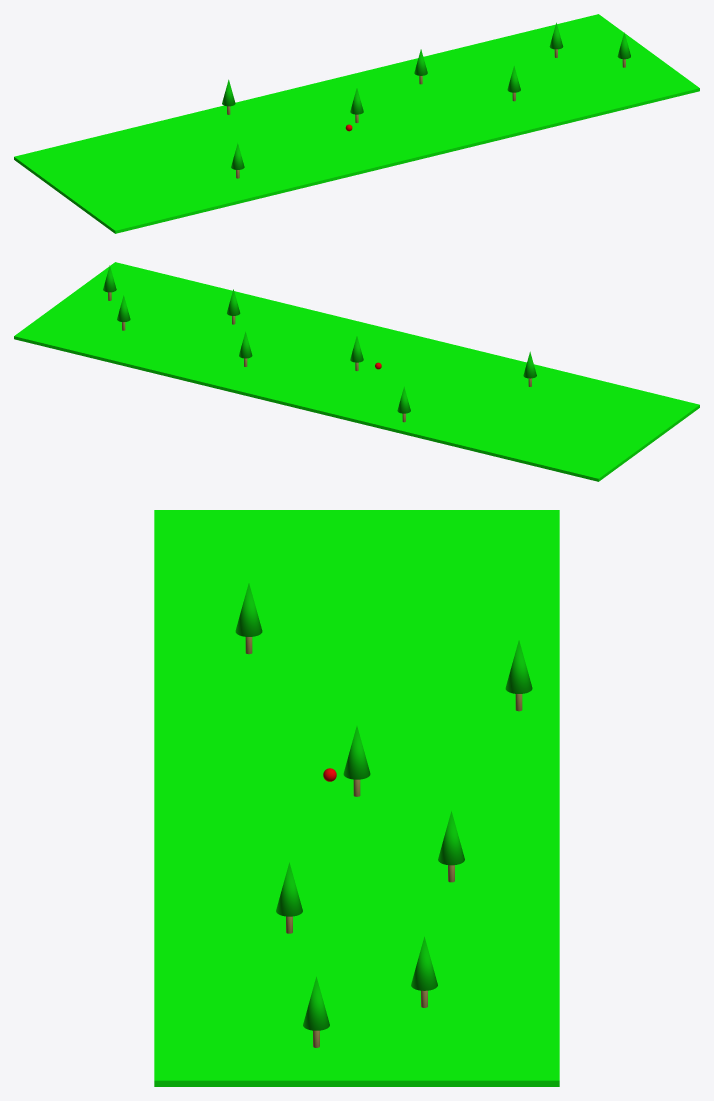
The model's file is cascadedshadowscene.fbx.
3 views of the same model, one above another, from view 1: azimuth 30°, elevation 25°; view 2: azimuth 150°, elevation 25°; view 3: azimuth 270°, elevation 25° (orthographic). The views are drawn at different scales.
Visible parts, largest first — view 1: Ground; view 2: Ground; view 3: Ground.
Boxes of the visible parts, left/top/right/bottom form: Ground: left=14, top=14, right=699, bottom=233; Ground: left=14, top=262, right=699, bottom=481; Ground: left=154, top=510, right=559, bottom=1086.
Bounding box in the file's own units: 100 × 6.25 × 30.
